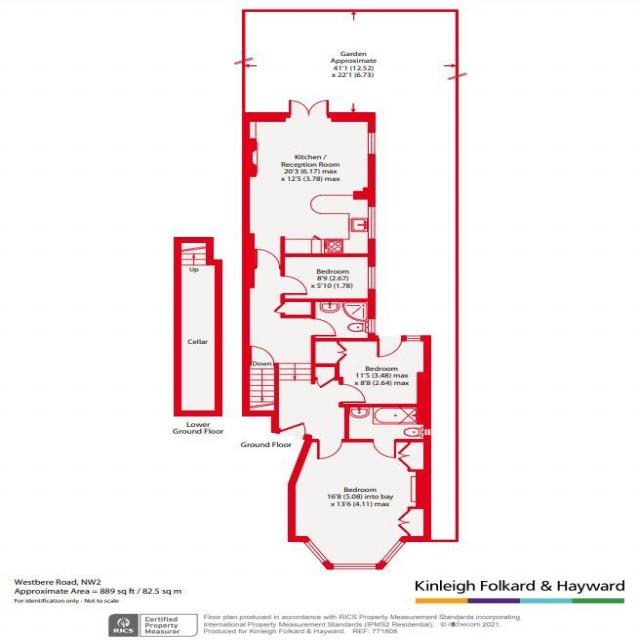DOOR: (376, 335, 404, 359), (280, 274, 309, 296), (310, 317, 339, 338), (339, 382, 368, 403), (315, 439, 344, 460), (370, 438, 397, 459), (256, 247, 280, 269), (251, 345, 275, 366)
DOUBLE DOOR: (288, 99, 330, 117)
ROOM: (241, 99, 376, 270), (287, 439, 432, 571), (310, 335, 432, 408), (280, 253, 376, 303)
WINDOW: (380, 537, 407, 565), (302, 538, 329, 564), (326, 562, 379, 571), (367, 204, 376, 240), (367, 265, 377, 291), (366, 131, 376, 155), (367, 318, 376, 334), (404, 335, 422, 342)
